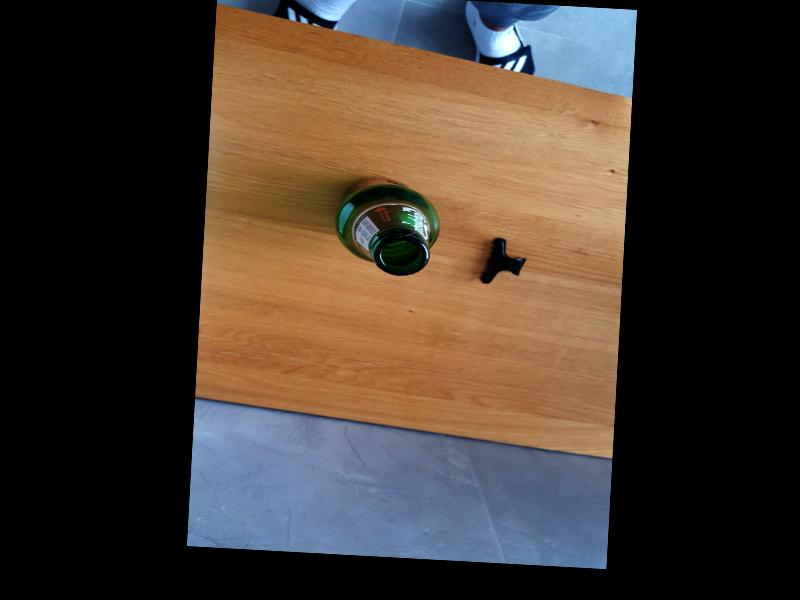Beer: (333, 173, 444, 277)
